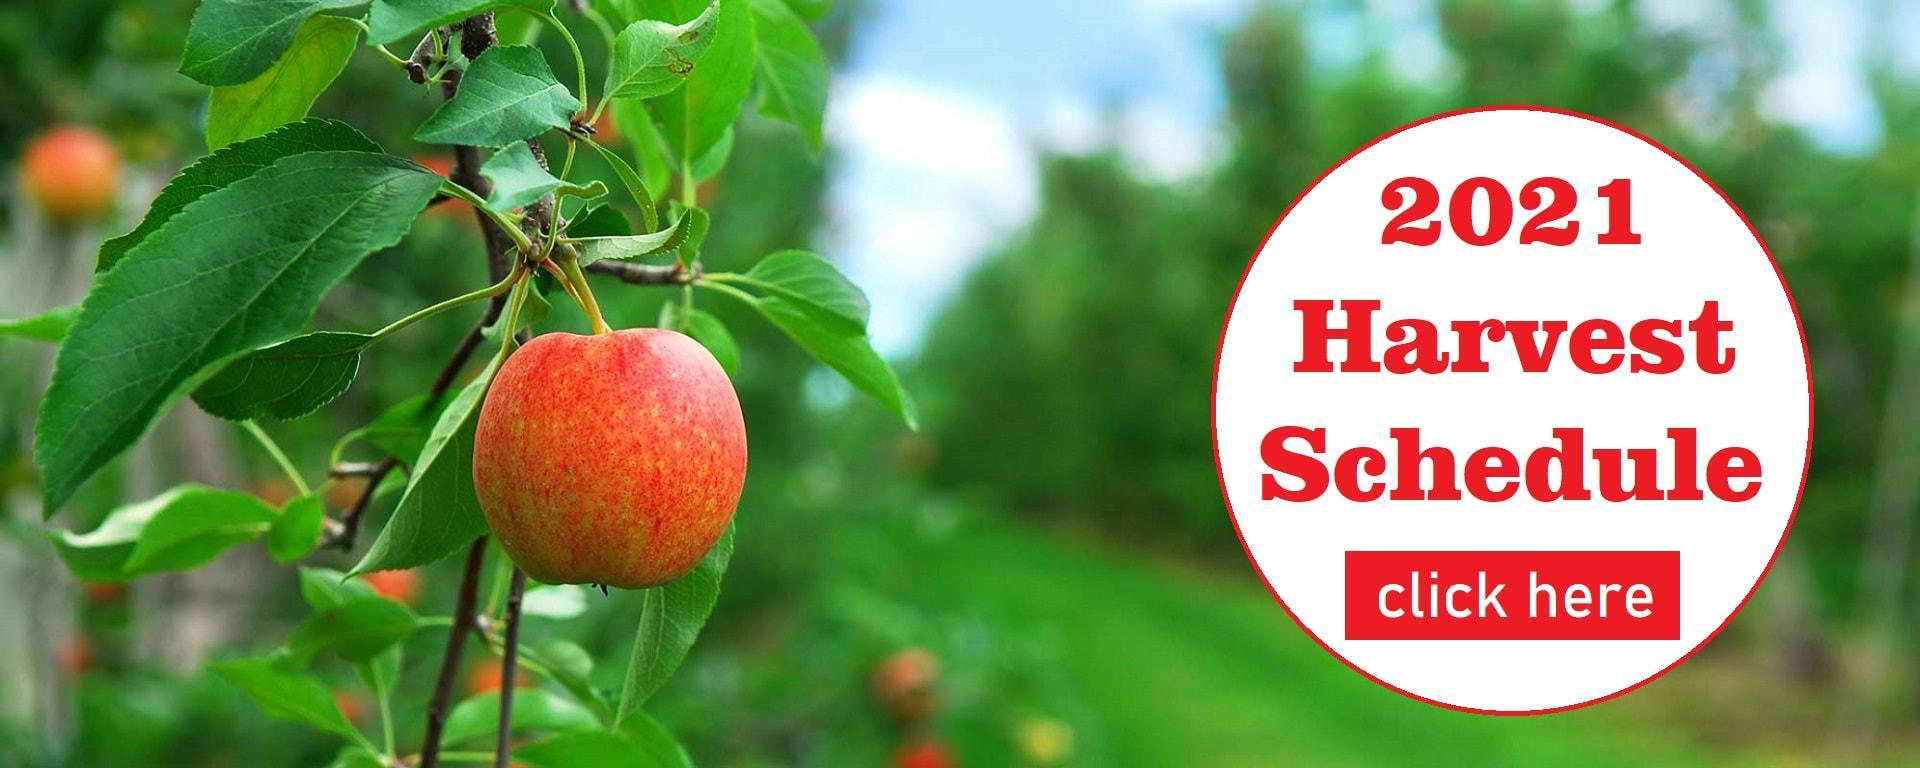apple: (470, 325, 749, 597)
